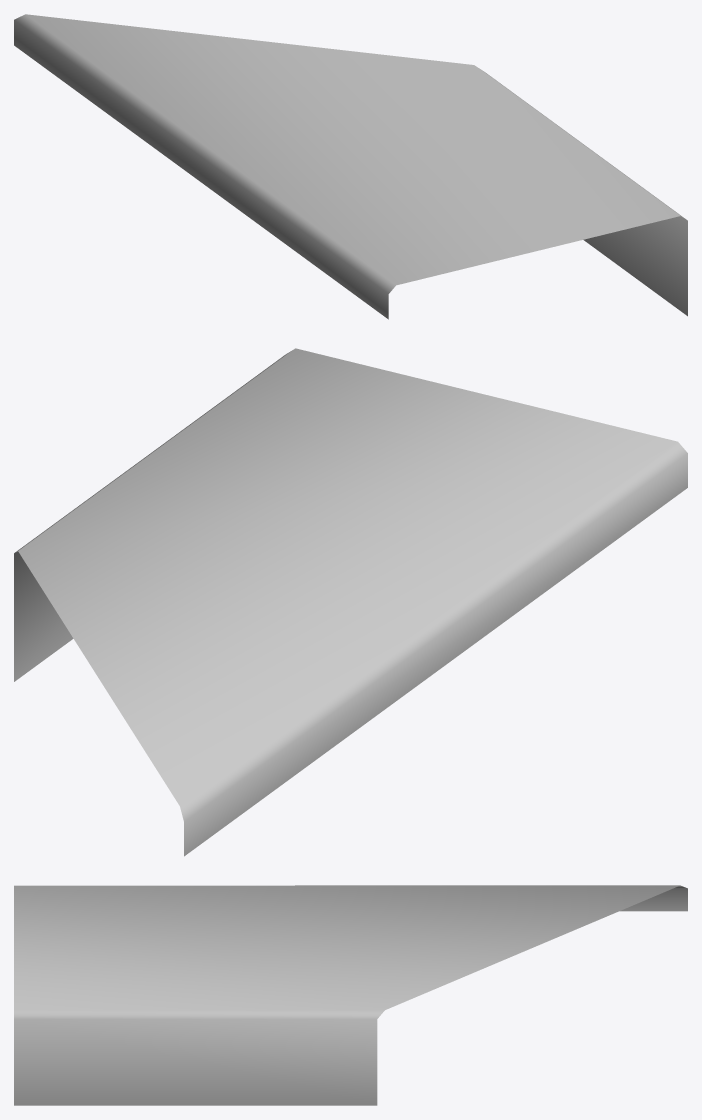
File: Curb_Inner_2.FBX
The picture shows the model from 3 angles, top to bottom: view 1: azimuth 30°, elevation 25°; view 2: azimuth 150°, elevation 25°; view 3: azimuth 270°, elevation 25°; orthographic projection. The views are drawn at different scales.
Parts seen in each view (by area): view 1: Curb_Inner_2; view 2: Curb_Inner_2; view 3: Curb_Inner_2.
Part boxes in pixels (left/top/right/bottom): Curb_Inner_2: left=14, top=14, right=687, bottom=319; Curb_Inner_2: left=14, top=348, right=687, bottom=856; Curb_Inner_2: left=14, top=885, right=687, bottom=1105.
Size of the model in its own units: 32.26 by 10.54 by 70.
1 material, 1 textured.
